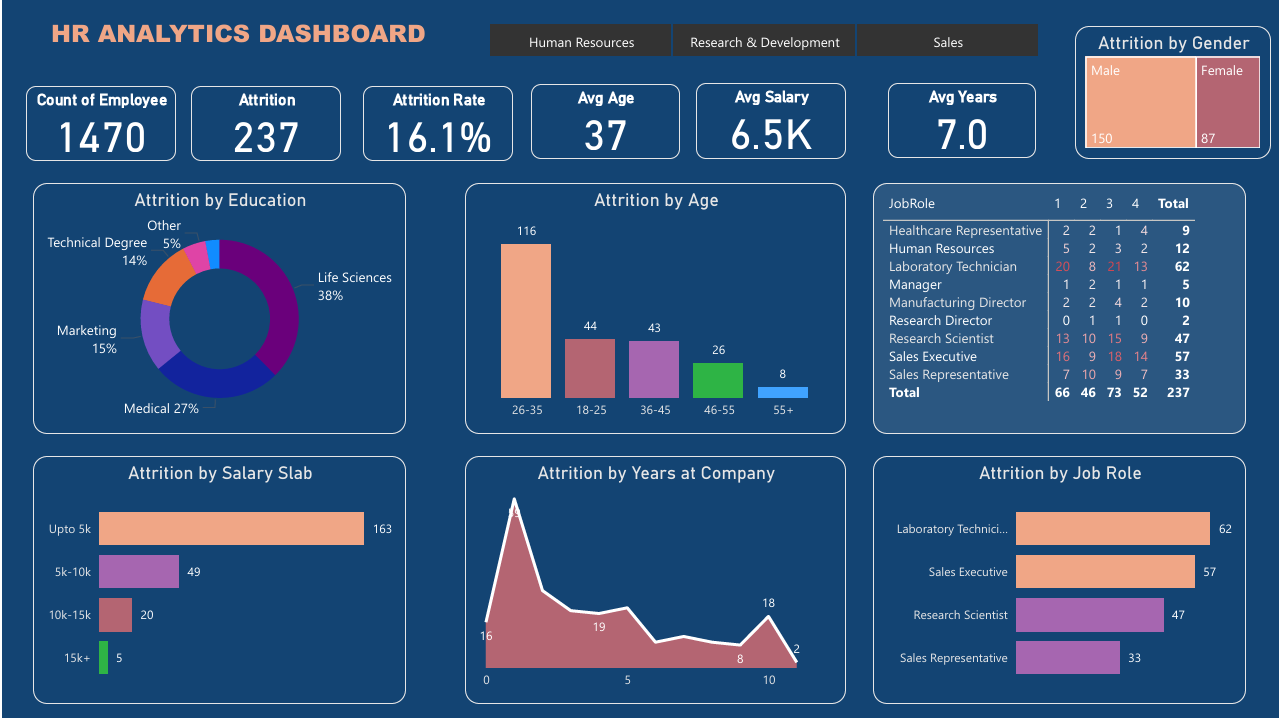

The dashboard page shown, as its layout file describes it:
{"tool":"powerbi","page":{"name":"Page 1","canvas":[1280,720],"ordinal":0},"visuals":[{"type":"card","title":"Count of Employee","fields":{"Values":["CountNonNull(HR_Analytics.EmpID)"]},"box":[23.3,85,150,75],"z":0},{"type":"card","title":"Attrition","fields":{"Values":["Sum(HR_Analytics.AttritionCount)"]},"box":[188.3,85,150,75],"z":1000},{"type":"card","title":"Avg Salary","fields":{"Values":["Avg(HR_Analytics.MonthlyIncome)"]},"box":[693.3,81.7,150,76.7],"z":2000},{"type":"card","title":"Attrition Rate","fields":{"Values":["HR_Analytics.AttritionRate"]},"box":[360,85,150,75],"z":3000},{"type":"card","title":"Avg Years","fields":{"Values":["Avg(HR_Analytics.YearsAtCompany)"]},"box":[885,81.7,148.3,75],"z":4000},{"type":"card","title":"Avg Age","fields":{"Values":["Avg(HR_Analytics.Age)"]},"box":[528.3,83.3,148.3,75],"z":5000},{"type":"donutChart","title":"Attrition by Education","fields":{"Category":["HR_Analytics.EducationField"],"Y":["Sum(HR_Analytics.AttritionCount)"]},"box":[30,181.7,373.3,251.7],"z":6000},{"type":"columnChart","title":"Attrition by Age","fields":{"Category":["HR_Analytics.AgeGroup"],"Y":["Sum(HR_Analytics.AttritionCount)"]},"box":[461.7,181.7,381.7,251.7],"z":7000},{"type":"pivotTable","fields":{"Rows":["HR_Analytics.JobRole"],"Columns":["HR_Analytics.JobSatisfaction"],"Values":["Sum(HR_Analytics.AttritionCount)"]},"box":[870,181.7,373.3,251.7],"z":8000},{"type":"barChart","title":"Attrition by Salary Slab","fields":{"Category":["HR_Analytics.SalarySlab"],"Y":["Sum(HR_Analytics.AttritionCount)"]},"box":[30,455,373.3,248.3],"z":9000},{"type":"barChart","title":"Attrition by Job Role","fields":{"Category":["HR_Analytics.JobRole"],"Y":["Sum(HR_Analytics.AttritionCount)"]},"box":[870,455,373.3,248.3],"z":10000},{"type":"areaChart","title":"Attrition by Years at Company","fields":{"Category":["HR_Analytics.YearsAtCompany"],"Y":["Sum(HR_Analytics.AttritionCount)"]},"box":[461.7,455,381.7,248.3],"z":11000},{"type":"treemap","title":"Attrition by Gender","fields":{"Group":["HR_Analytics.Gender"],"Values":["Sum(HR_Analytics.AttritionCount)"]},"box":[1071.7,25,196.7,133.3],"z":12000},{"type":"slicer","fields":{"Values":["HR_Analytics.Department"]},"box":[461.7,16.7,598.3,46.7],"z":13000},{"type":"textbox","box":[42.9,9.5,391.3,52.5],"z":14000}]}

Visuals, with their boxes in screenshot pixels (x1, y1, x2, y2), scaled from the page's 1280x720 canvas onto the 1279x718 screenshot:
"Count of Employee" card: (x1=23, y1=85, x2=173, y2=160)
"Attrition" card: (x1=188, y1=85, x2=338, y2=160)
"Avg Salary" card: (x1=693, y1=81, x2=843, y2=158)
"Attrition Rate" card: (x1=360, y1=85, x2=510, y2=160)
"Avg Years" card: (x1=884, y1=81, x2=1032, y2=156)
"Avg Age" card: (x1=528, y1=83, x2=676, y2=158)
"Attrition by Education" donutChart: (x1=30, y1=181, x2=403, y2=432)
"Attrition by Age" columnChart: (x1=461, y1=181, x2=843, y2=432)
pivotTable - HR_Analytics.JobRole x HR_Analytics.JobSatisfaction: (x1=869, y1=181, x2=1242, y2=432)
"Attrition by Salary Slab" barChart: (x1=30, y1=454, x2=403, y2=701)
"Attrition by Job Role" barChart: (x1=869, y1=454, x2=1242, y2=701)
"Attrition by Years at Company" areaChart: (x1=461, y1=454, x2=843, y2=701)
"Attrition by Gender" treemap: (x1=1071, y1=25, x2=1267, y2=158)
slicer - HR_Analytics.Department: (x1=461, y1=17, x2=1059, y2=63)
textbox: (x1=43, y1=9, x2=434, y2=62)
